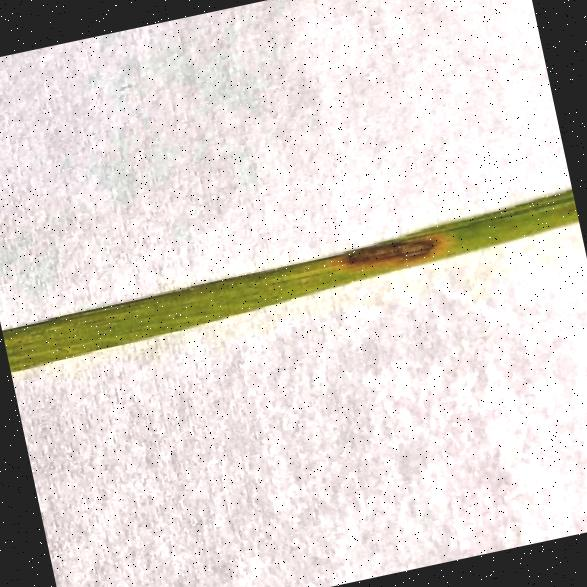Leaf_smut: (240, 220, 464, 298)
